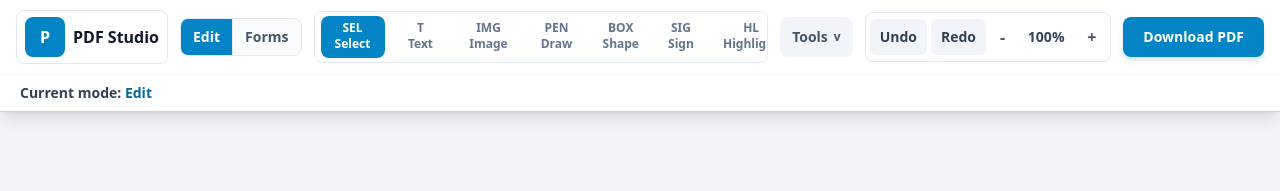
Test: EditorToolbar › shows shape picker only when shape tool active
Expected: the text "Arrow" is not shown
Click the button "BOX Shape".
click(621, 37)  # box [592,16,649,58]
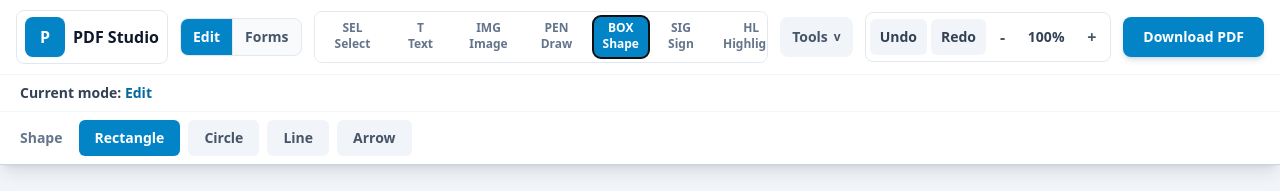
Result: the button "Arrow" is shown at [337,120,412,156]
